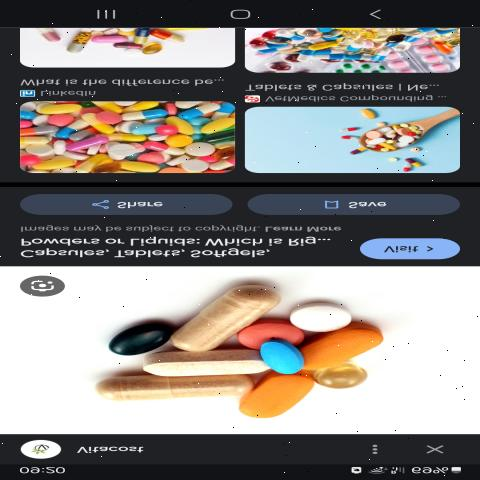Pill: (176, 277, 285, 354), (78, 374, 271, 403), (140, 350, 287, 384), (240, 374, 320, 425), (282, 301, 363, 337)
